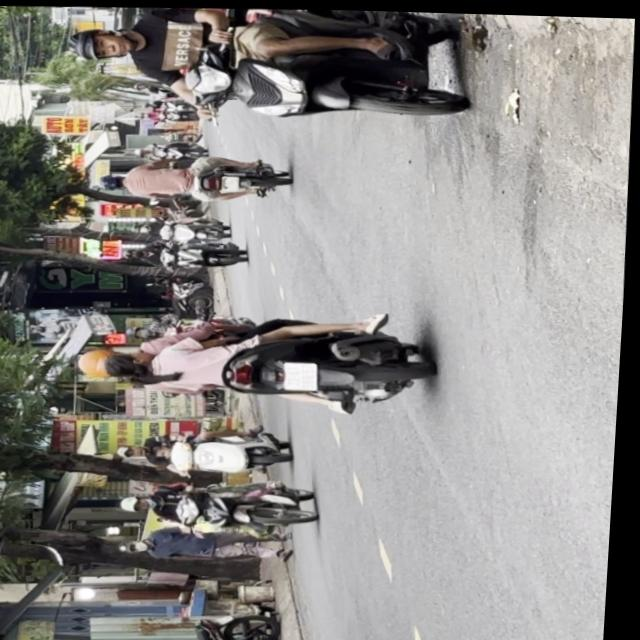helmet: (66, 27, 134, 63), (78, 346, 127, 380), (122, 494, 155, 513)
licenseplate: (61, 2, 470, 130), (74, 305, 440, 420), (120, 475, 325, 534), (116, 421, 297, 478)
motorcyclist: (107, 348, 156, 381), (118, 444, 149, 460), (151, 443, 180, 459)
nohelmet: (287, 360, 321, 389)
